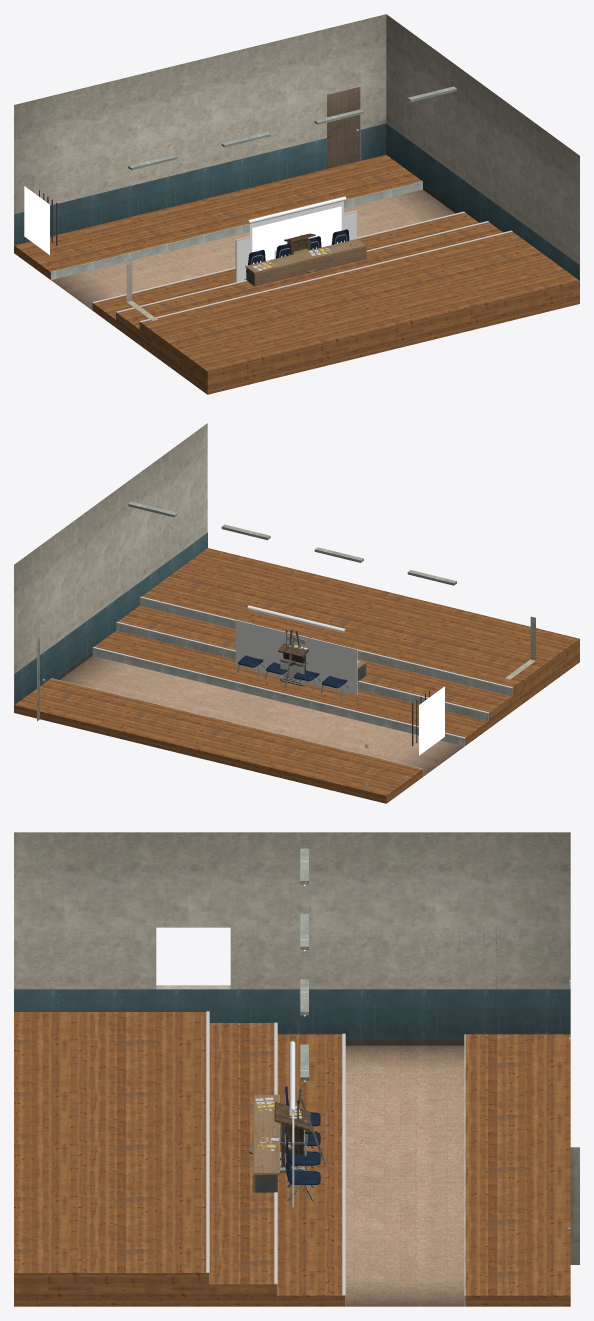
The model's file is learning_kit.glb.
3 views of the same model, one above another, from view 1: azimuth 30°, elevation 25°; view 2: azimuth 150°, elevation 25°; view 3: azimuth 270°, elevation 25° (orthographic). The views are drawn at different scales.
Visible parts, largest first — view 1: lk_hall_room, lk_tiers, lk_bench, lk_screen, lk_whiteboard; view 2: lk_tiers, lk_hall_room, lk_whiteboard, lk_bench, lk_screen; view 3: lk_hall_room, lk_tiers, lk_bench, lk_lectern.
Part boxes in pixels (x1,y1,x2,y2): lk_hall_room: (14,14,579,320); lk_tiers: (14,155,579,394); lk_bench: (244,229,366,286); lk_screen: (248,196,346,263); lk_whiteboard: (235,210,357,282); lk_tiers: (14,548,579,803); lk_hall_room: (14,423,535,787); lk_whiteboard: (235,619,357,694); lk_bench: (237,655,366,697); lk_screen: (247,605,345,632); lk_hall_room: (14,832,579,1306); lk_tiers: (14,1011,570,1306); lk_bench: (252,1086,320,1201); lk_lectern: (274,1100,310,1169).
Bounding box in the file's own units: 10.3 × 3.96 × 9.15.
29 materials, 13 textured.
